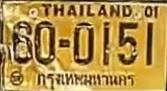0: (34, 20, 55, 64), (73, 21, 93, 64)
1: (102, 22, 109, 64), (146, 22, 152, 64)
5: (117, 21, 137, 64)
6: (12, 20, 32, 63)
BKK: (34, 70, 136, 91)
